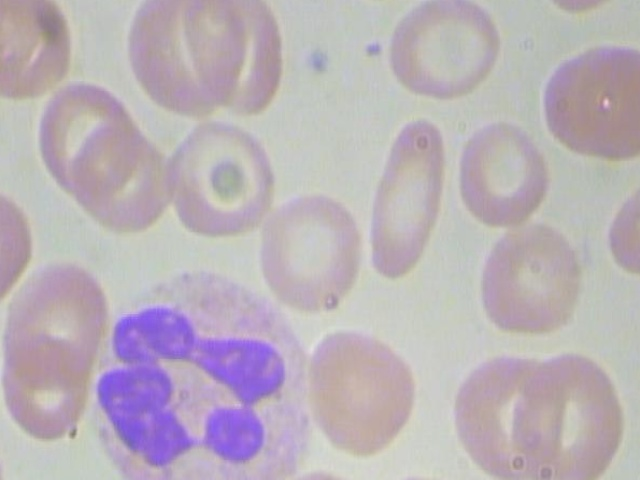Platelets: (300, 41, 335, 80), (103, 479, 132, 480)
RBC: (302, 320, 426, 462), (511, 340, 636, 480), (107, 0, 243, 121), (157, 116, 287, 239), (527, 28, 640, 165), (365, 109, 450, 290), (469, 220, 587, 346), (0, 250, 111, 382), (256, 193, 372, 317), (377, 0, 508, 108), (187, 0, 288, 121), (31, 81, 137, 194), (450, 121, 554, 236), (0, 331, 97, 448)
WBC: (88, 263, 330, 480)
